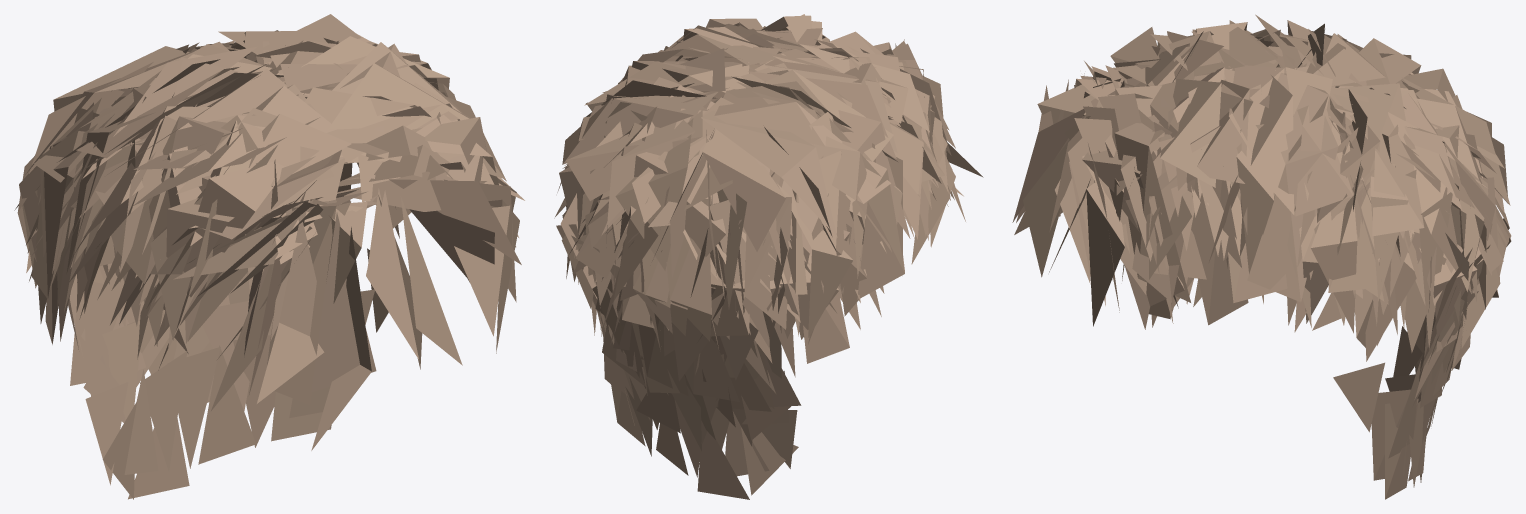
File: male_hair_02_lod2.glb
The picture shows the model from 3 angles, left to right: view 1: azimuth 30°, elevation 25°; view 2: azimuth 150°, elevation 25°; view 3: azimuth 270°, elevation 25°; orthographic projection. The views are drawn at different scales.
Visible parts, largest first — view 1: hair_02; view 2: hair_02; view 3: hair_02.
Boxes of the visible parts, x1=… form: hair_02: x1=14, y1=14, x2=524, y2=499; hair_02: x1=554, y1=14, x2=983, y2=499; hair_02: x1=1012, y1=14, x2=1511, y2=499.
Size of the model in its own units: 0.171 by 0.1966 by 0.2034.
